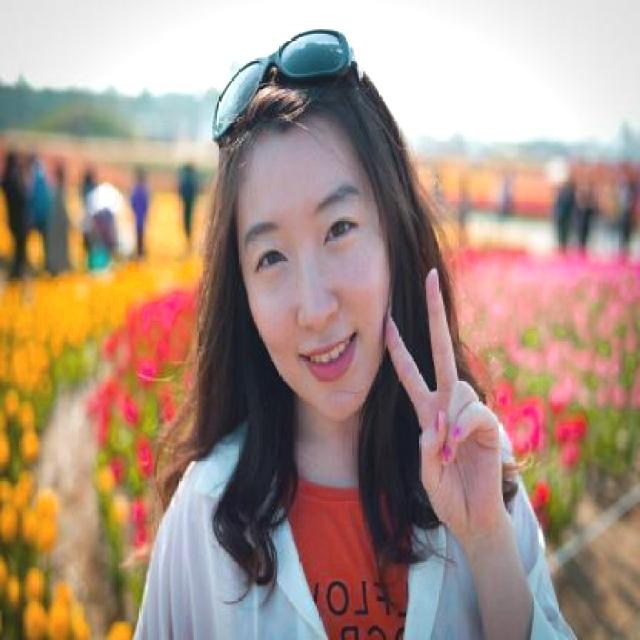face_nomask: (243, 165, 395, 403)
glasses: (228, 41, 374, 113)
hand_noglove: (379, 260, 532, 522)
